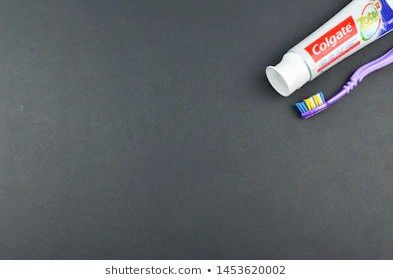colgate-total-150gm: (263, 1, 393, 101)
toothbrush: (292, 49, 389, 127)
